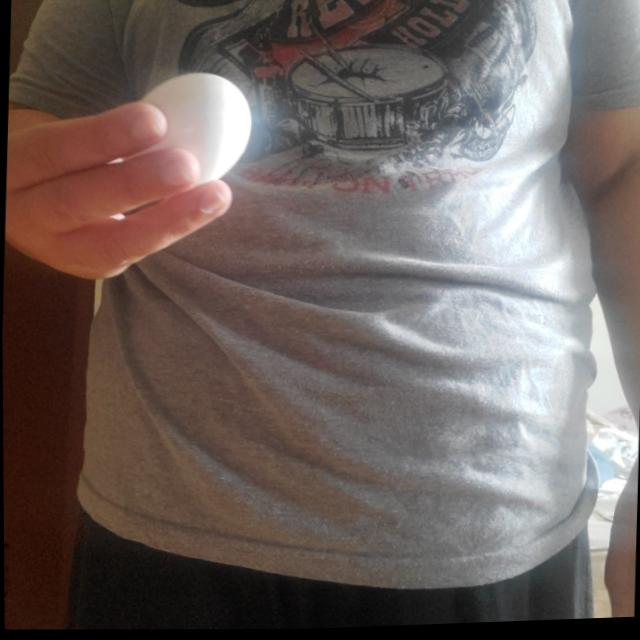egg: (126, 69, 251, 191)
